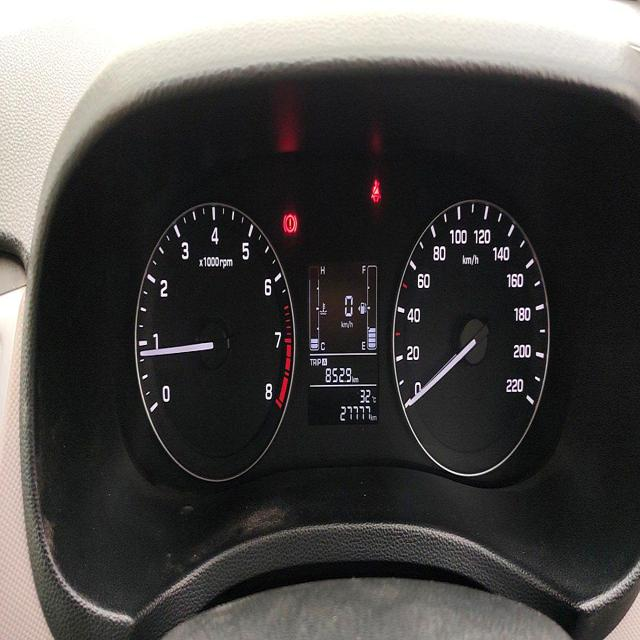odometer: (339, 404, 371, 422)
